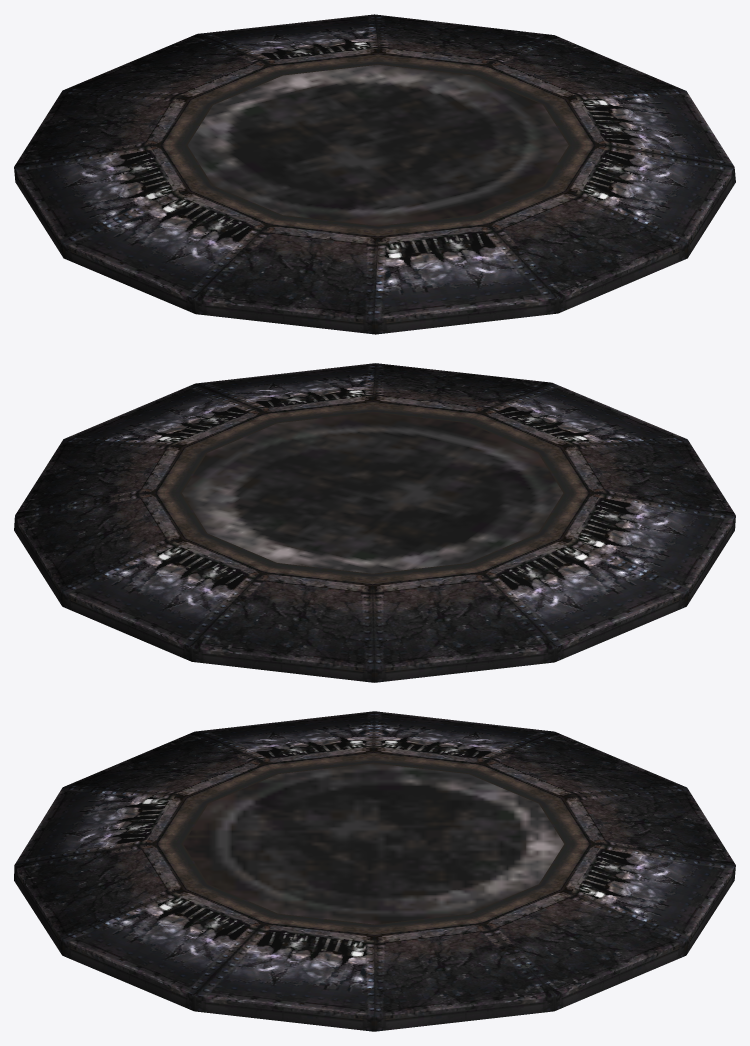
File: Turret.fbx
3 views of the same model, one above another, from view 1: azimuth 30°, elevation 25°; view 2: azimuth 150°, elevation 25°; view 3: azimuth 270°, elevation 25° (orthographic).
Parts seen in each view (by area): view 1: SMO_BGxx_Turret_0010; view 2: SMO_BGxx_Turret_0010; view 3: SMO_BGxx_Turret_0010.
Part boxes in pixels (x1,y1,x2,y2): SMO_BGxx_Turret_0010: (14, 14, 735, 334); SMO_BGxx_Turret_0010: (14, 363, 735, 682); SMO_BGxx_Turret_0010: (14, 711, 735, 1031).
Size of the model in its own units: 852 by 47.7 by 852.
